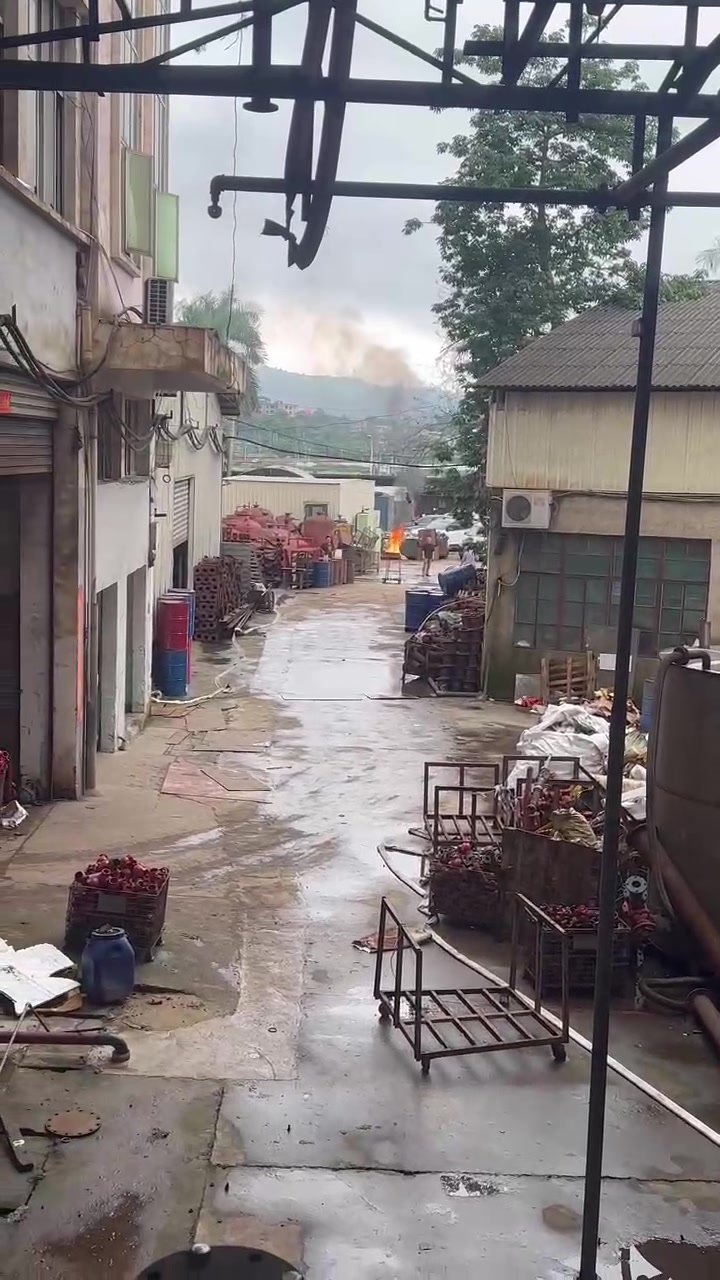fire: (384, 526, 402, 553)
